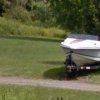Boat: (53, 29, 100, 88)
